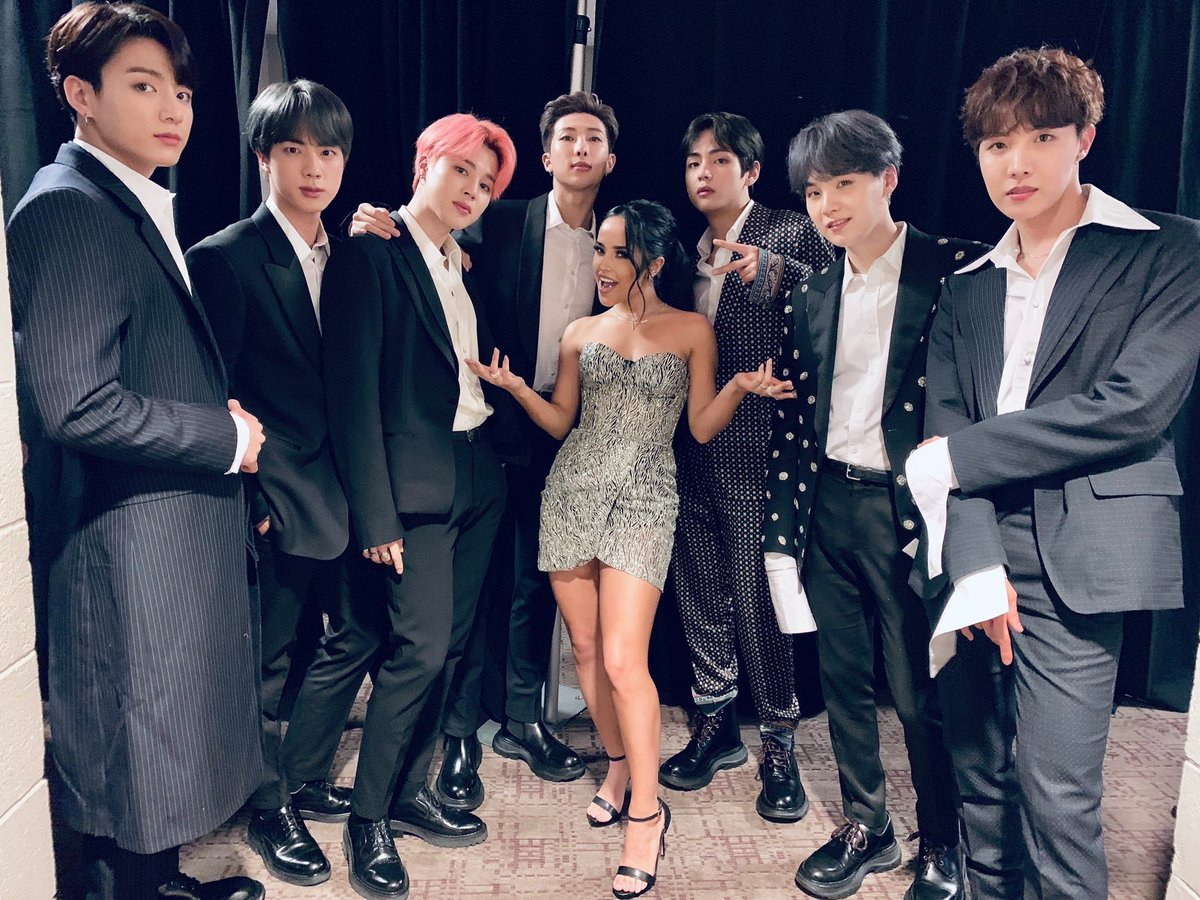people: (966, 57, 1192, 900), (38, 8, 251, 900), (202, 86, 377, 882), (783, 119, 961, 889), (353, 118, 495, 900), (682, 111, 811, 826), (565, 209, 683, 891), (516, 96, 616, 750)
